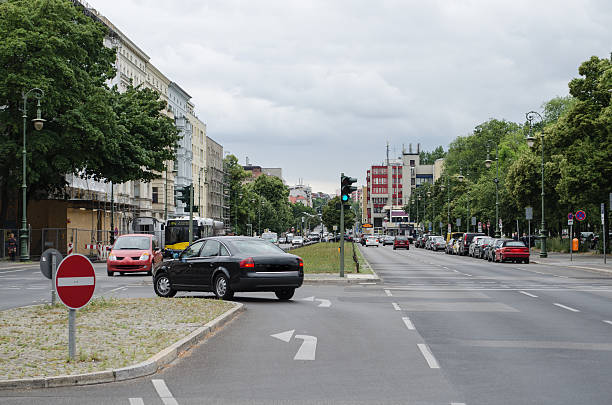Girilmez: (54, 251, 96, 310)
otomobil: (147, 233, 294, 315), (102, 228, 165, 281)
